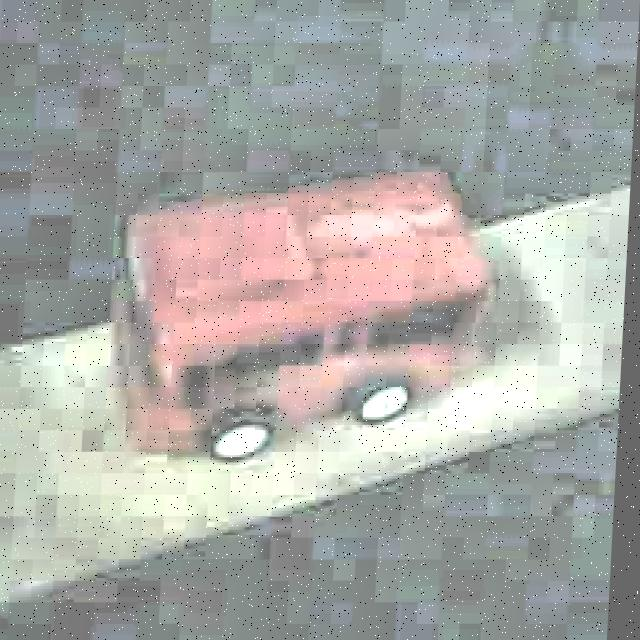bus: (102, 166, 500, 468)
